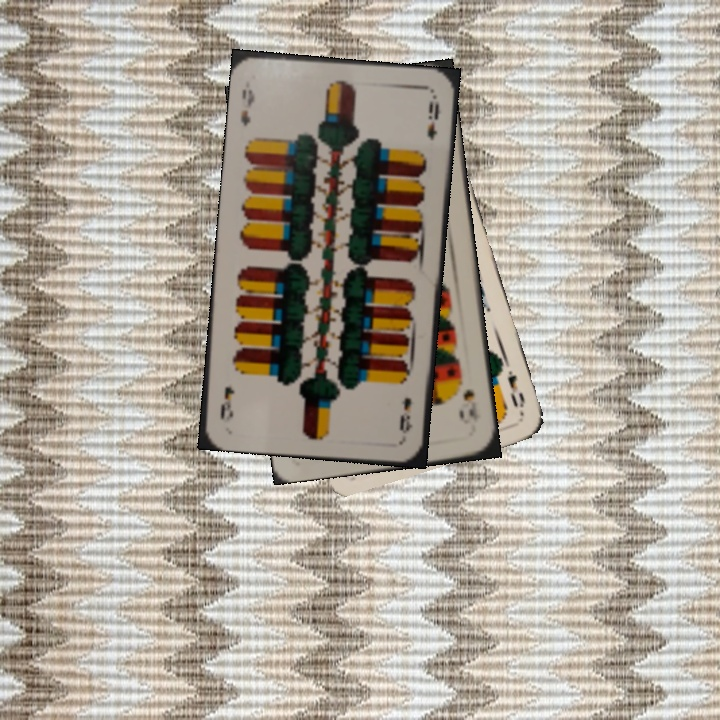E9: (236, 85, 258, 129), (395, 394, 416, 436)
EO: (503, 366, 528, 411)
S10: (459, 385, 484, 425)
